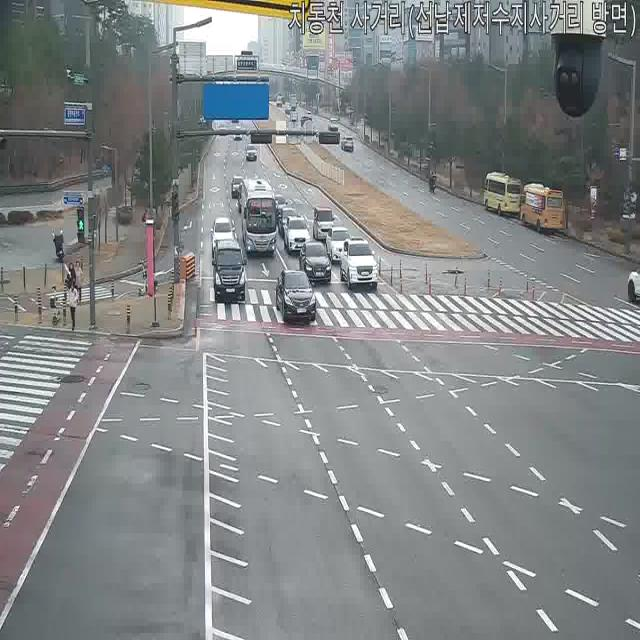Bus: (240, 176, 278, 258), (518, 182, 566, 234), (482, 172, 524, 216)
Car: (276, 270, 318, 326), (211, 241, 248, 303), (339, 237, 378, 289), (299, 240, 332, 286), (210, 216, 236, 258), (325, 225, 353, 263), (284, 216, 310, 255), (622, 256, 640, 306), (312, 206, 337, 242), (237, 180, 259, 215), (277, 206, 299, 238), (267, 192, 288, 222), (230, 174, 248, 198), (245, 144, 259, 162), (341, 134, 353, 152), (232, 126, 244, 142), (326, 116, 338, 130), (304, 120, 314, 136), (289, 110, 299, 124), (288, 96, 296, 110), (302, 110, 312, 121), (275, 95, 283, 108)
Motorcycle: (425, 171, 434, 193)
